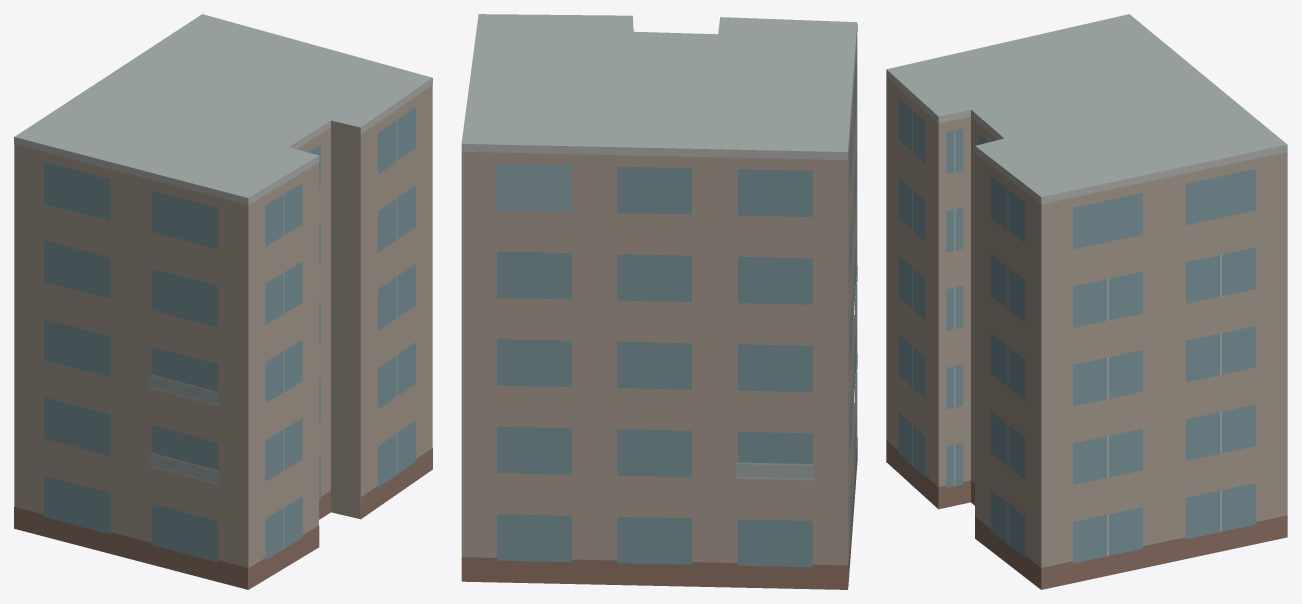
The model's file is survey-upis-32837258.glb.
The picture shows the model from 3 angles, left to right: view 1: azimuth 30°, elevation 25°; view 2: azimuth 150°, elevation 25°; view 3: azimuth 270°, elevation 25°; orthographic projection. The views are drawn at different scales.
Visible parts, largest first — view 1: survey-upis-32837258.tmp; view 2: survey-upis-32837258.tmp; view 3: survey-upis-32837258.tmp.
Boxes of the visible parts, left/top/right/bottom form: survey-upis-32837258.tmp: left=14, top=14, right=432, bottom=589; survey-upis-32837258.tmp: left=461, top=14, right=857, bottom=589; survey-upis-32837258.tmp: left=886, top=14, right=1287, bottom=589.
Size of the model in its own units: 13.42 by 13.4 by 12.42.
